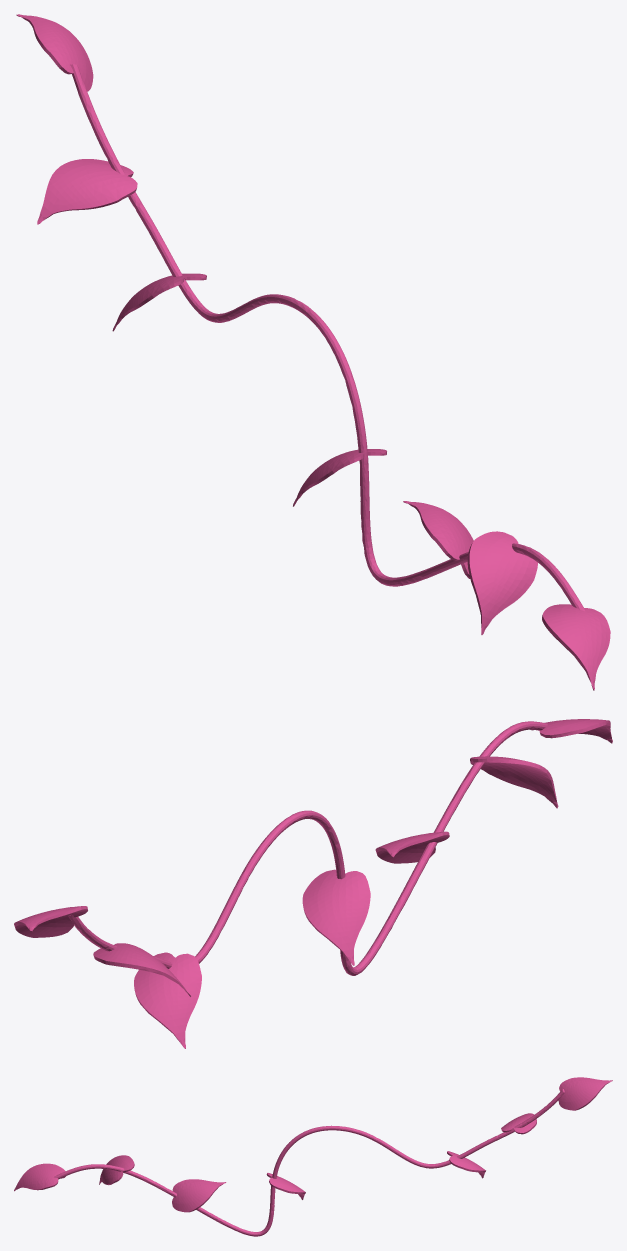
File: plante.fbx
3 renders of one model, top to bottom at view 1: azimuth 30°, elevation 25°; view 2: azimuth 150°, elevation 25°; view 3: azimuth 270°, elevation 25°, orthographic. The views are drawn at different scales.
Parts seen in each view (by area): view 1: feuille14; view 2: feuille14; view 3: feuille14.
Boxes of the visible parts, left/top/right/bottom form: feuille14: left=16, top=14, right=610, bottom=690; feuille14: left=14, top=719, right=612, bottom=1048; feuille14: left=14, top=1077, right=612, bottom=1236.
Size of the model in its own units: 1.13 by 2.85 by 9.96.
